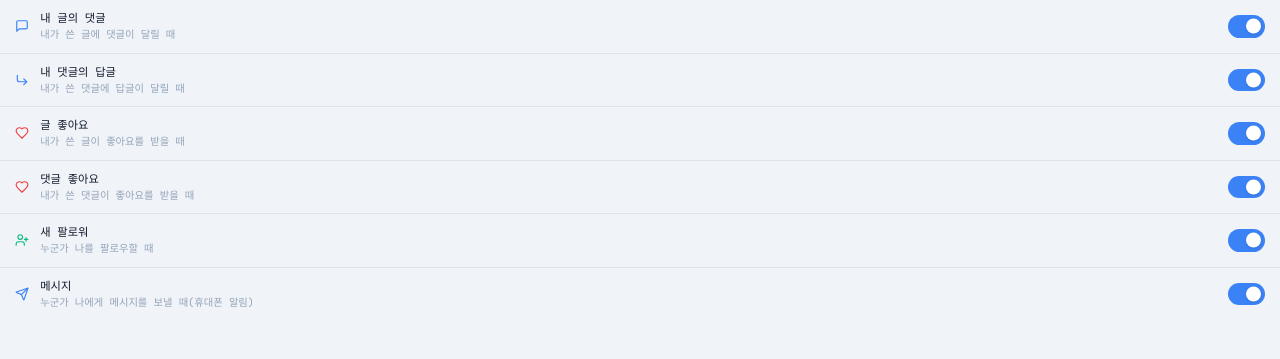
Test case: 알림 설정 › 저장에 실패하면 원래대로 되돌린다
Click the switch named "내 글의 댓글 알림" at (1246, 26), box [1228,15,1265,38]
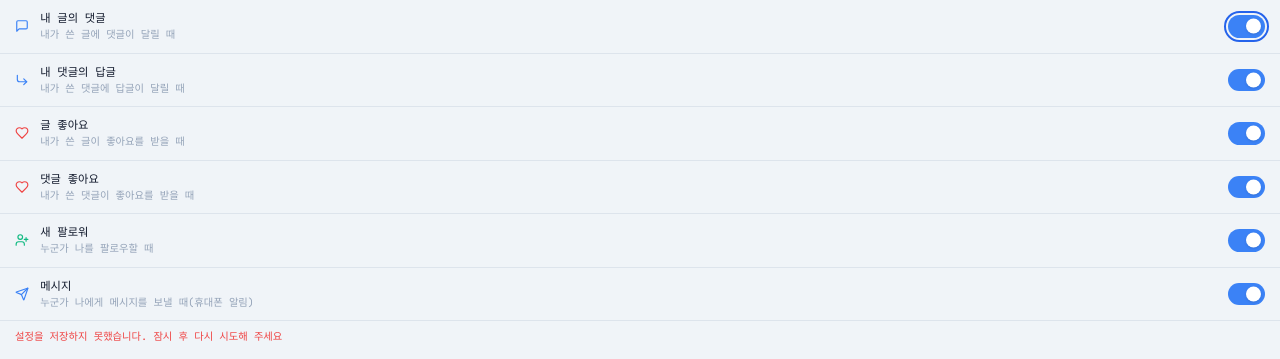
Check: the text "설정을 저장하지 못했습니다. 잠시 후 다시 시도해 주세요" is shown, box [15,328,282,342]
